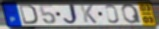0: (105, 4, 121, 24)
5: (38, 4, 57, 25)
D: (18, 5, 39, 26)
J: (62, 3, 81, 25)
K: (79, 4, 99, 25)
Q: (121, 4, 143, 25)
